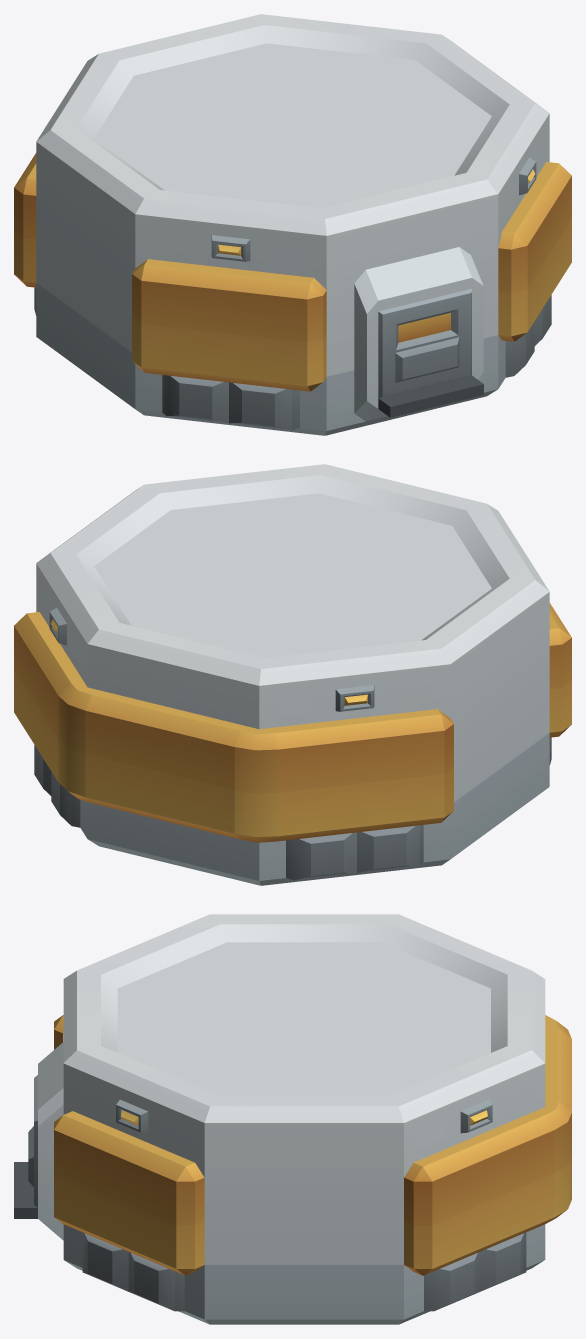
File: basemodule_b.glb
The picture shows the model from 3 angles, top to bottom: view 1: azimuth 30°, elevation 25°; view 2: azimuth 150°, elevation 25°; view 3: azimuth 270°, elevation 25°; orthographic projection.
Visible parts, largest first — view 1: basemodule_B; view 2: basemodule_B; view 3: basemodule_B.
Boxes of the visible parts, left/top/right/bottom form: basemodule_B: left=14, top=14, right=571, bottom=435; basemodule_B: left=14, top=464, right=571, bottom=885; basemodule_B: left=14, top=914, right=571, bottom=1324.
Bounding box in the file's own units: 2.08 × 1 × 2.32.
Materials: 1 (1 with a texture image).
